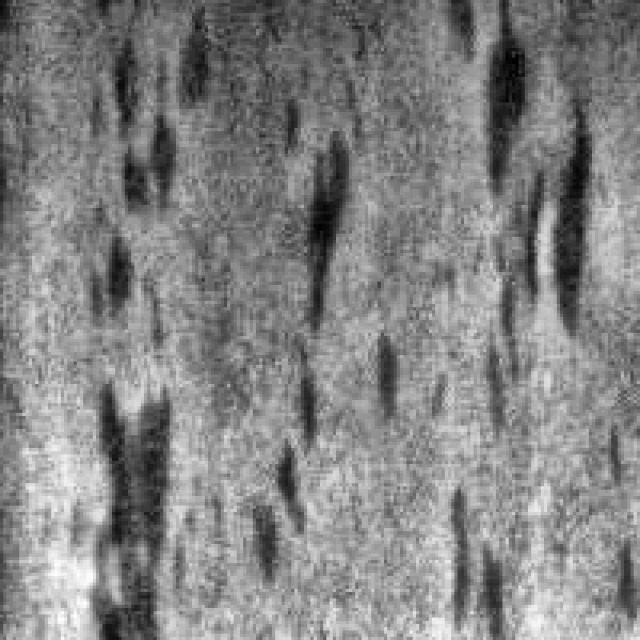Patches: (54, 9, 196, 630), (237, 118, 352, 580), (473, 0, 592, 394), (438, 477, 506, 630), (362, 317, 404, 413)
